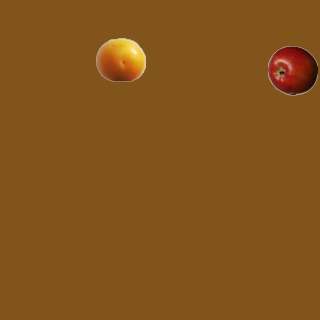Apple Braeburn: (267, 45, 317, 95)
Cherry Wax Yellow: (95, 34, 145, 84)
